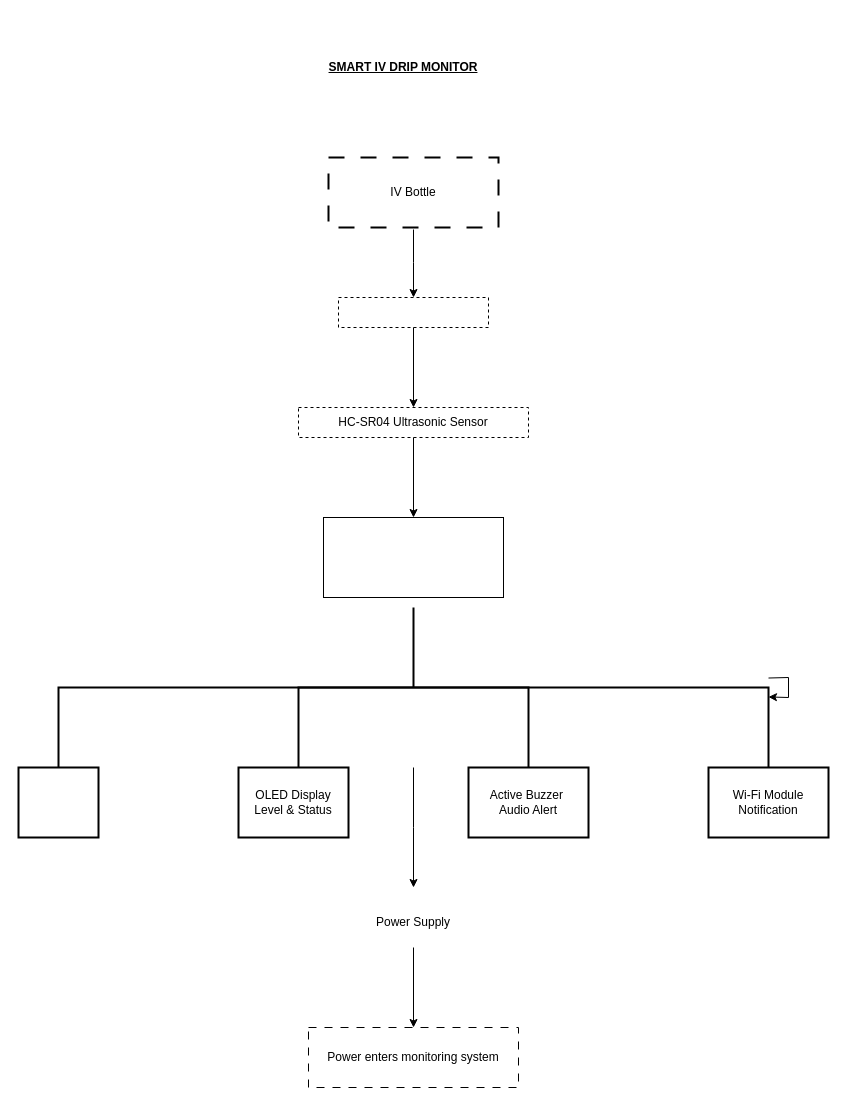
The diagram is 846 pixels wide and 1105 high, and some of its shapes have lost their labels. The shapes that lost their labels are listed below. From the top down, each one's box as (x1, y1, x2, y2) in pixels, then its label:
(338, 296, 488, 328): Measures Fluid Level
(322, 516, 504, 598): ESP32 Main controller unit
(17, 766, 99, 838): IR SENSOR blockage detect
